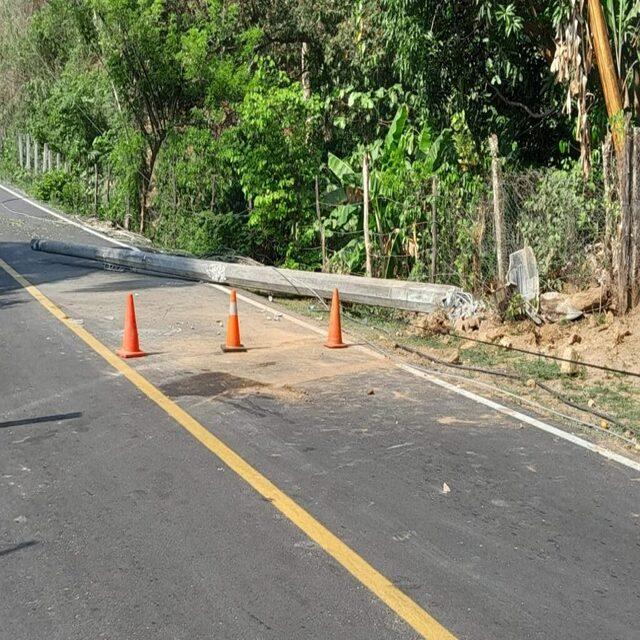Inclined Pole: (25, 232, 557, 328)
